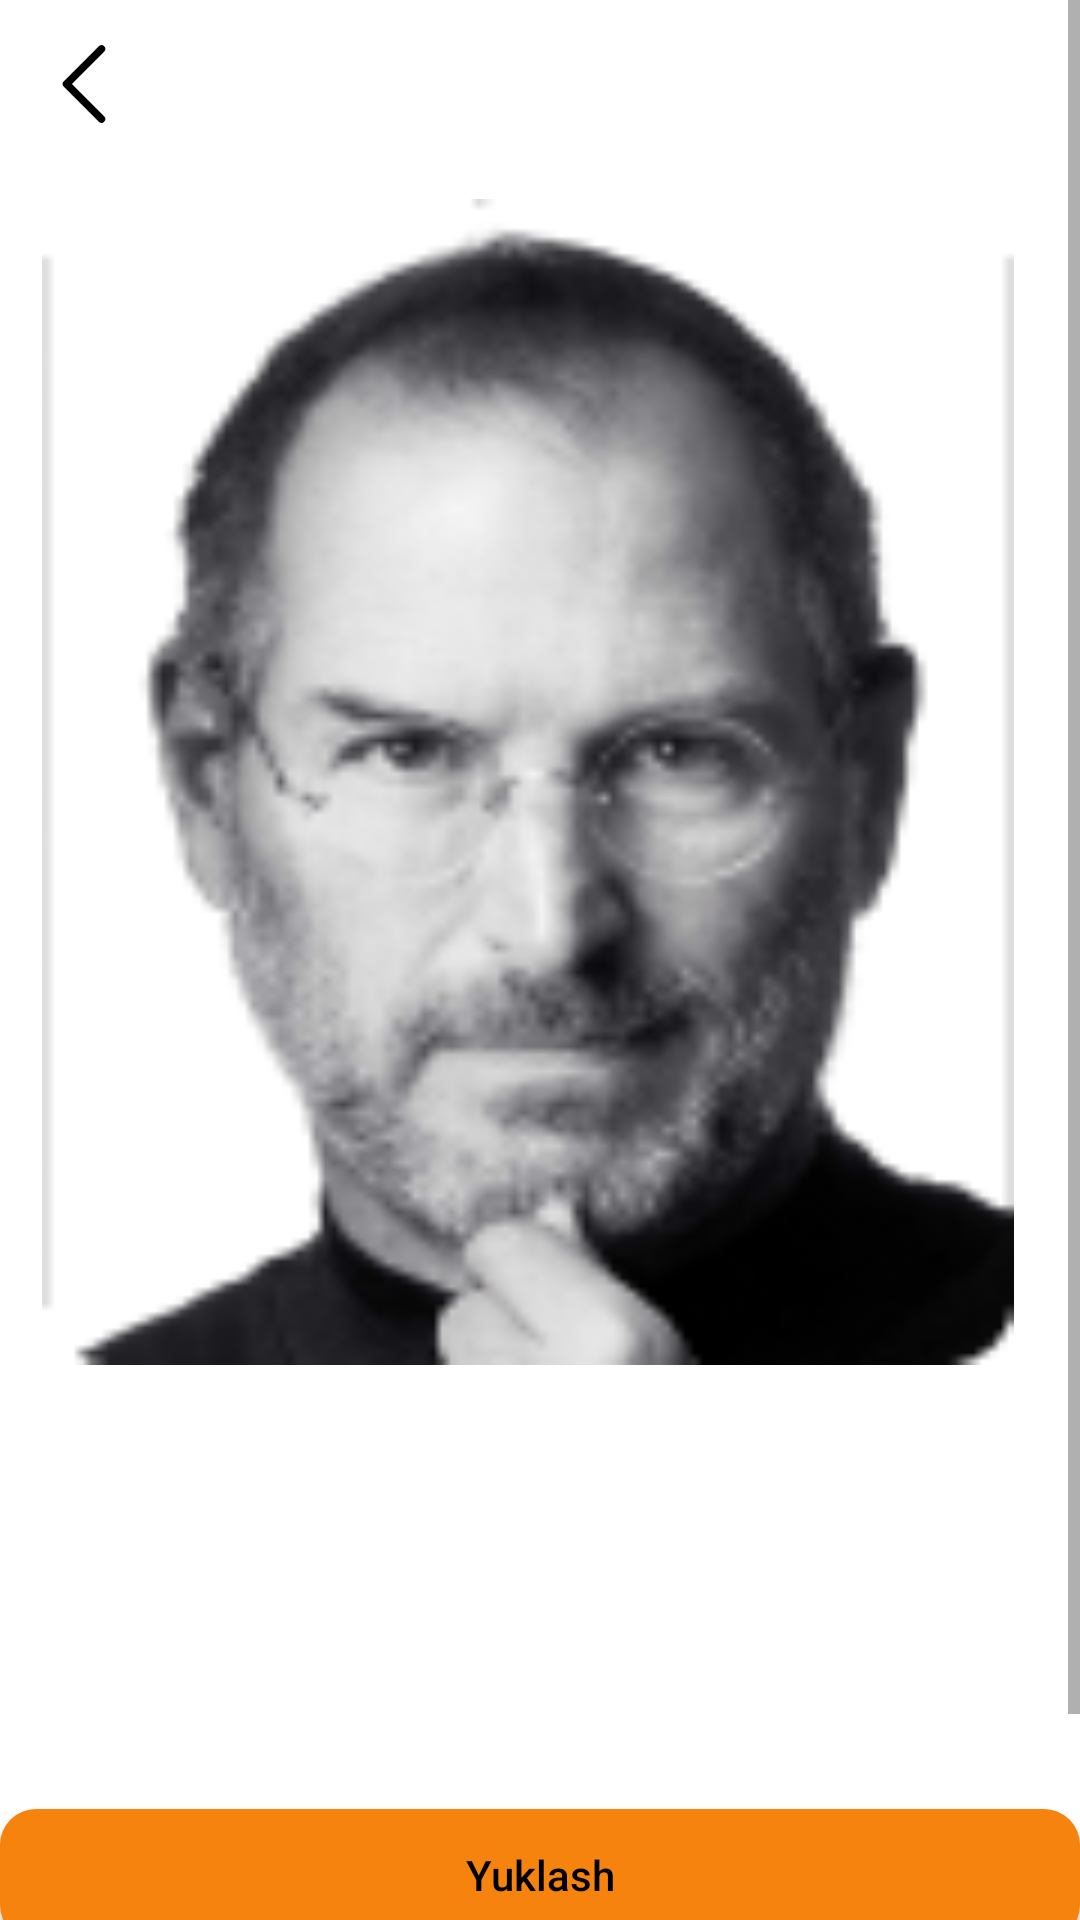

Named icons in this screenshot (1080 × 1920) and their bounding boxes, (x1, y1, x2, y2):
arrow: (62, 45, 106, 123)
